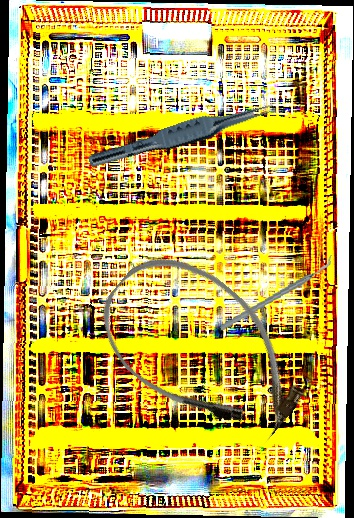Cannula: (80, 231, 327, 469)
Chopper: (213, 254, 340, 332)
Tissue Forceps: (87, 92, 277, 179)
